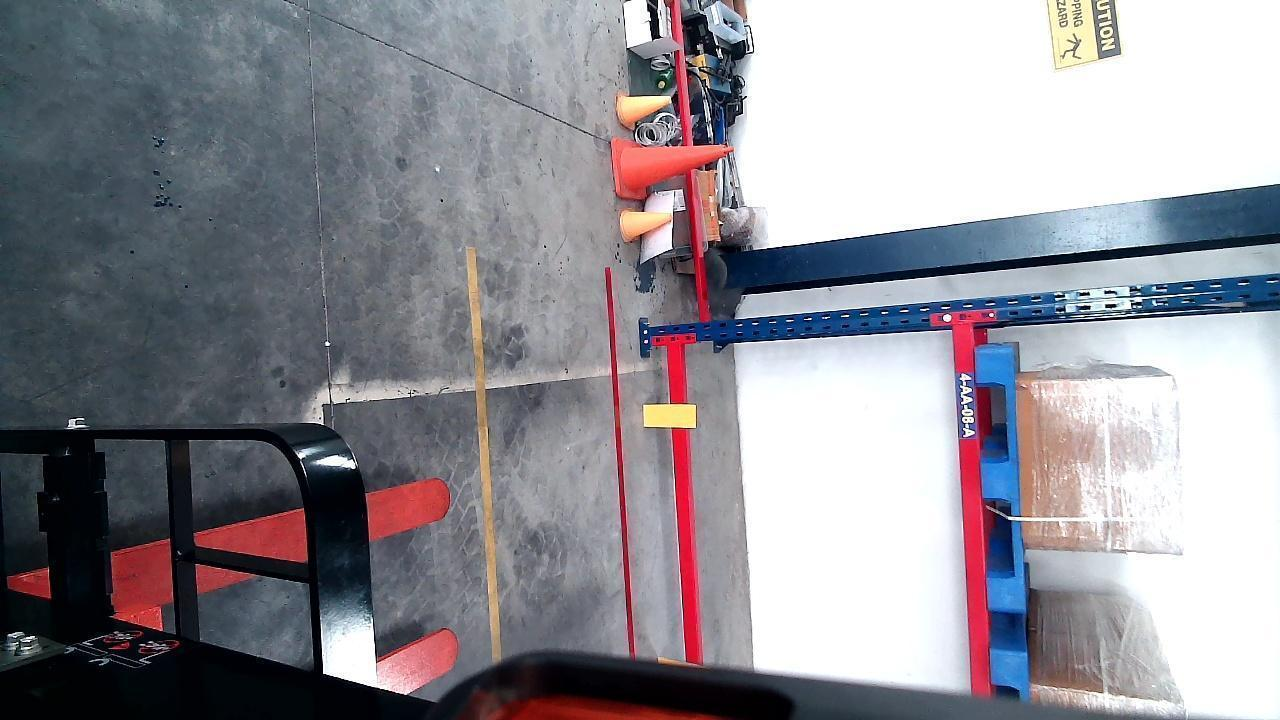red_line: (598, 264, 643, 657)
yellow_line: (460, 242, 506, 671)
